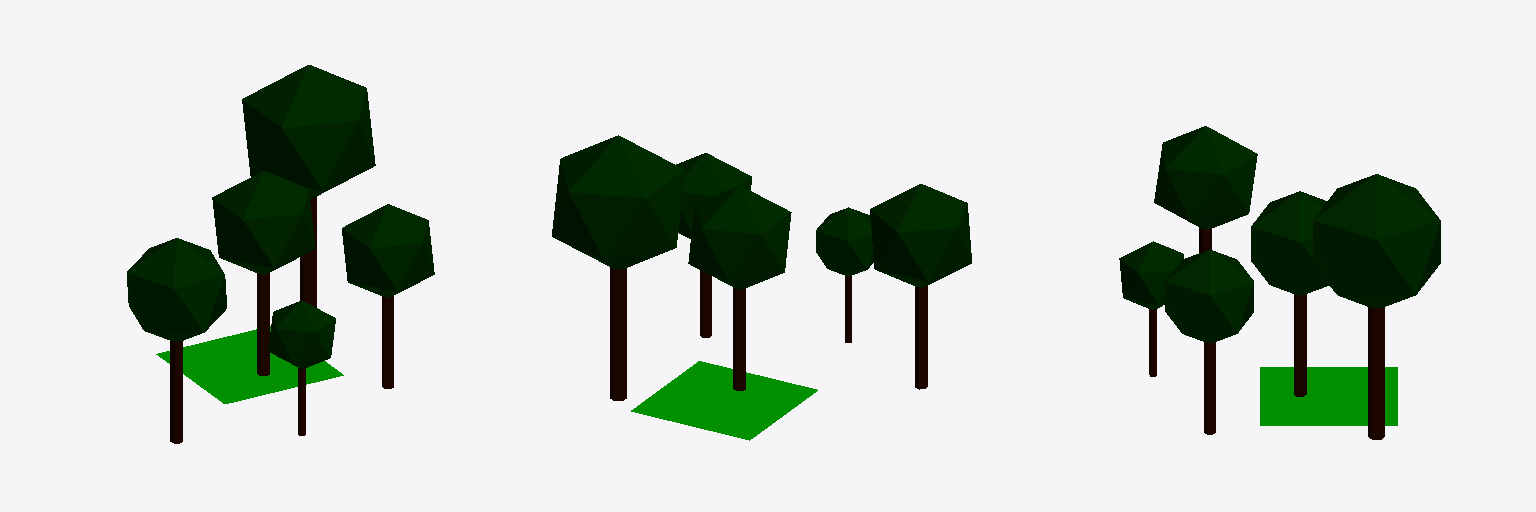
Rendered from tree.obj.
3 renders of one model, left to right at view 1: azimuth 30°, elevation 25°; view 2: azimuth 150°, elevation 25°; view 3: azimuth 270°, elevation 25°, orthographic.
Visible parts, largest first — view 1: Cylinder.004, Cylinder, Cylinder.001, Cylinder.003, floor_Plane, Cylinder.002; view 2: Cylinder.004, Cylinder.001, Cylinder, floor_Plane, Cylinder.002, Cylinder.003; view 3: Cylinder.004, Cylinder.001, Cylinder.003, Cylinder, floor_Plane, Cylinder.002.
Boxes of the visible parts, x1,y1,x2,y2 form: Cylinder.004: [242, 65, 375, 307]; Cylinder: [212, 171, 315, 375]; Cylinder.001: [127, 238, 226, 443]; Cylinder.003: [342, 204, 434, 388]; floor_Plane: [156, 326, 343, 403]; Cylinder.002: [268, 300, 335, 435]; Cylinder.004: [552, 135, 684, 400]; Cylinder.001: [870, 184, 971, 389]; Cylinder: [688, 186, 791, 390]; floor_Plane: [631, 361, 817, 440]; Cylinder.002: [816, 207, 873, 342]; Cylinder.003: [676, 153, 751, 337]; Cylinder.004: [1313, 174, 1440, 439]; Cylinder.001: [1154, 126, 1257, 252]; Cylinder.003: [1165, 249, 1253, 434]; Cylinder: [1251, 191, 1329, 396]; floor_Plane: [1260, 367, 1397, 425]; Cylinder.002: [1119, 241, 1183, 376].
Bounding box in the file's own units: 5.37 × 4.23 × 4.68.